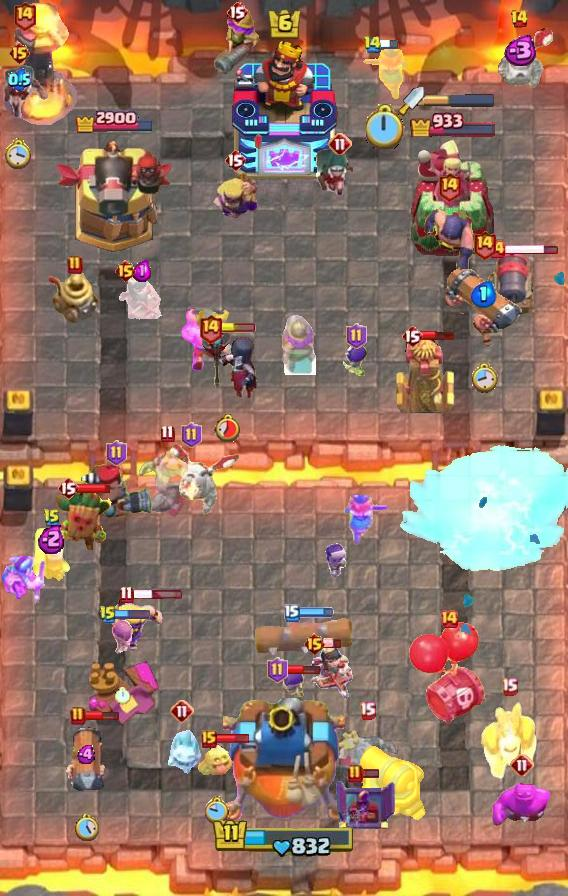bandit: (314, 145, 366, 199), (0, 64, 48, 120)
bar: (504, 243, 559, 256), (131, 589, 183, 600), (84, 710, 120, 721), (285, 664, 321, 675), (115, 609, 151, 620), (298, 607, 334, 618), (420, 330, 456, 341), (215, 733, 250, 744), (77, 483, 111, 494), (220, 323, 256, 333), (361, 768, 380, 779), (323, 638, 342, 649), (380, 39, 399, 50)
bar-level: (198, 313, 223, 344), (472, 229, 497, 260), (437, 171, 462, 202), (12, 0, 37, 31), (510, 753, 534, 777), (170, 699, 194, 723), (328, 132, 352, 156), (303, 632, 326, 656), (114, 259, 137, 283), (8, 41, 31, 65), (267, 657, 288, 683), (106, 440, 127, 466), (181, 422, 202, 448), (346, 323, 367, 349), (57, 476, 79, 500), (401, 324, 423, 348), (224, 148, 246, 172), (226, 0, 248, 24), (439, 609, 459, 629), (486, 239, 506, 259), (510, 9, 529, 29), (363, 35, 382, 54), (99, 605, 117, 625), (43, 508, 61, 528), (359, 701, 376, 720), (501, 677, 518, 696), (347, 764, 363, 784), (70, 706, 86, 726), (67, 255, 83, 275), (201, 730, 217, 748), (284, 604, 300, 622), (119, 585, 134, 604), (160, 424, 175, 443)
barbarian-evolution: (108, 600, 164, 653), (211, 173, 259, 220)
cannoneer-tower: (53, 138, 175, 256)
clock: (366, 104, 405, 149), (5, 137, 33, 169), (471, 363, 498, 394), (214, 413, 242, 442), (205, 796, 230, 824), (75, 814, 99, 841), (115, 687, 130, 704)
dagger-duchess-tower: (409, 138, 497, 256)
dagger-duchess-tower-bar: (424, 93, 496, 107)
dart-goblin: (54, 487, 112, 551)
elite-barbarian: (181, 306, 232, 372)
elixir: (500, 35, 538, 66), (38, 523, 66, 554), (471, 281, 497, 308), (8, 68, 31, 91), (133, 260, 151, 282), (77, 745, 97, 764)
elixir-golem-mid: (491, 782, 553, 828)
executioner: (422, 207, 476, 277)
firecracker: (31, 525, 73, 583)
heal-spirit: (197, 740, 237, 778)
hunter: (77, 460, 155, 520)
ice-spirit: (160, 727, 204, 777)
king-tower: (223, 698, 345, 826), (230, 41, 338, 181)
king-tower-bar: (212, 817, 356, 859)
mega-minion: (478, 701, 540, 781)
musketeer: (209, 0, 265, 78), (280, 311, 317, 375)
night-witch: (198, 326, 258, 402)
princess: (117, 270, 167, 324), (309, 644, 353, 704)
royal-ghost: (335, 725, 399, 797), (135, 447, 199, 519)
skeleton-evolution: (277, 666, 307, 706), (109, 617, 136, 655), (343, 343, 369, 379), (323, 542, 347, 578)
spear-goblin: (0, 555, 48, 607)
tesla: (394, 334, 456, 418)
the-log: (254, 615, 356, 655)
tower-bar: (409, 109, 498, 137), (74, 108, 155, 133)
valkyrie: (343, 493, 391, 547), (361, 47, 409, 101)
zappy: (49, 272, 101, 326)
